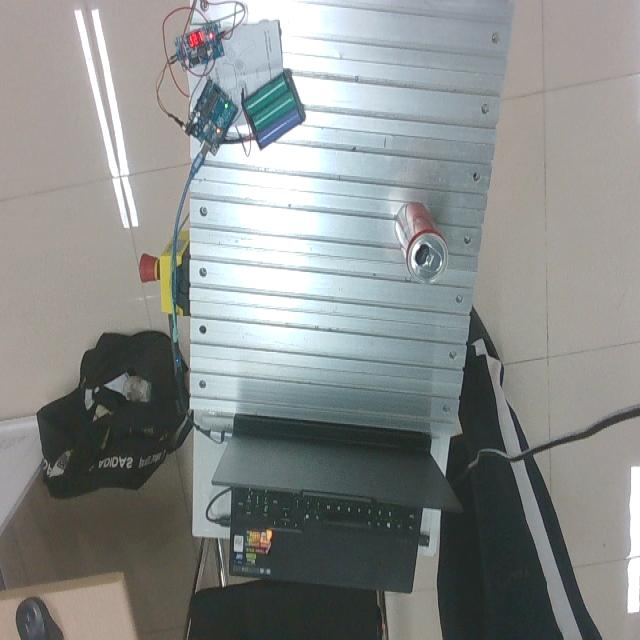coca: (393, 202, 448, 286)
